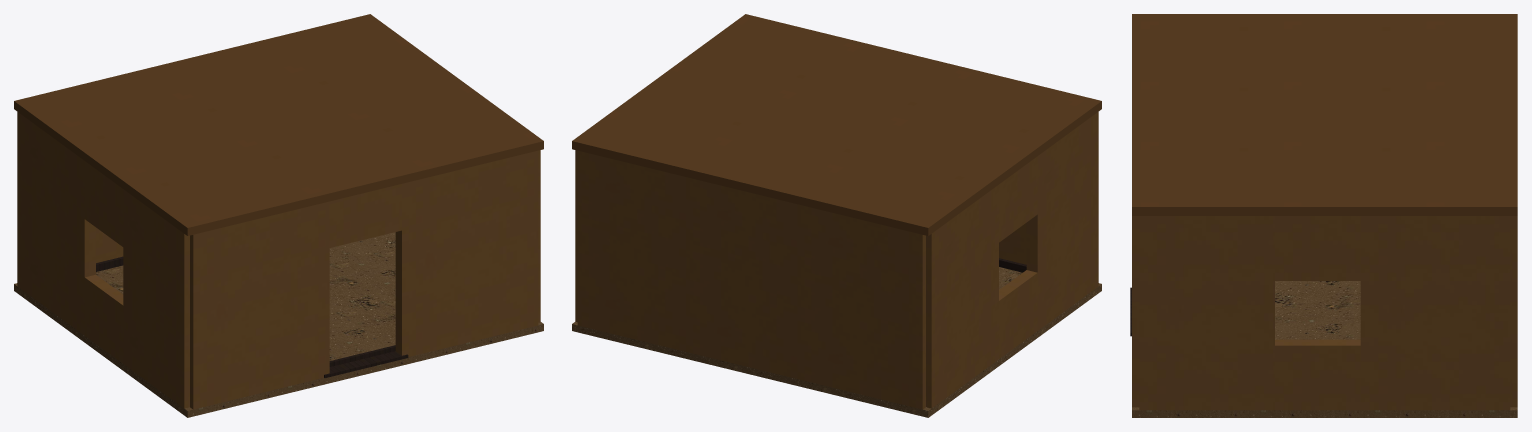
The model's file is int_silkroad_house_01.glb.
3 views of the same model, side by side, from view 1: azimuth 30°, elevation 25°; view 2: azimuth 150°, elevation 25°; view 3: azimuth 270°, elevation 25° (orthographic). The views are drawn at different scales.
Visible parts, largest first — view 1: int_silkroad_house_01; view 2: int_silkroad_house_01; view 3: int_silkroad_house_01.
Part boxes in pixels (left/top/right/bottom): int_silkroad_house_01: left=14, top=14, right=543, bottom=417; int_silkroad_house_01: left=572, top=14, right=1101, bottom=417; int_silkroad_house_01: left=1130, top=14, right=1517, bottom=417.
Size of the model in its own units: 6.4 by 3.26 by 5.42.
5 materials, 5 textured.
